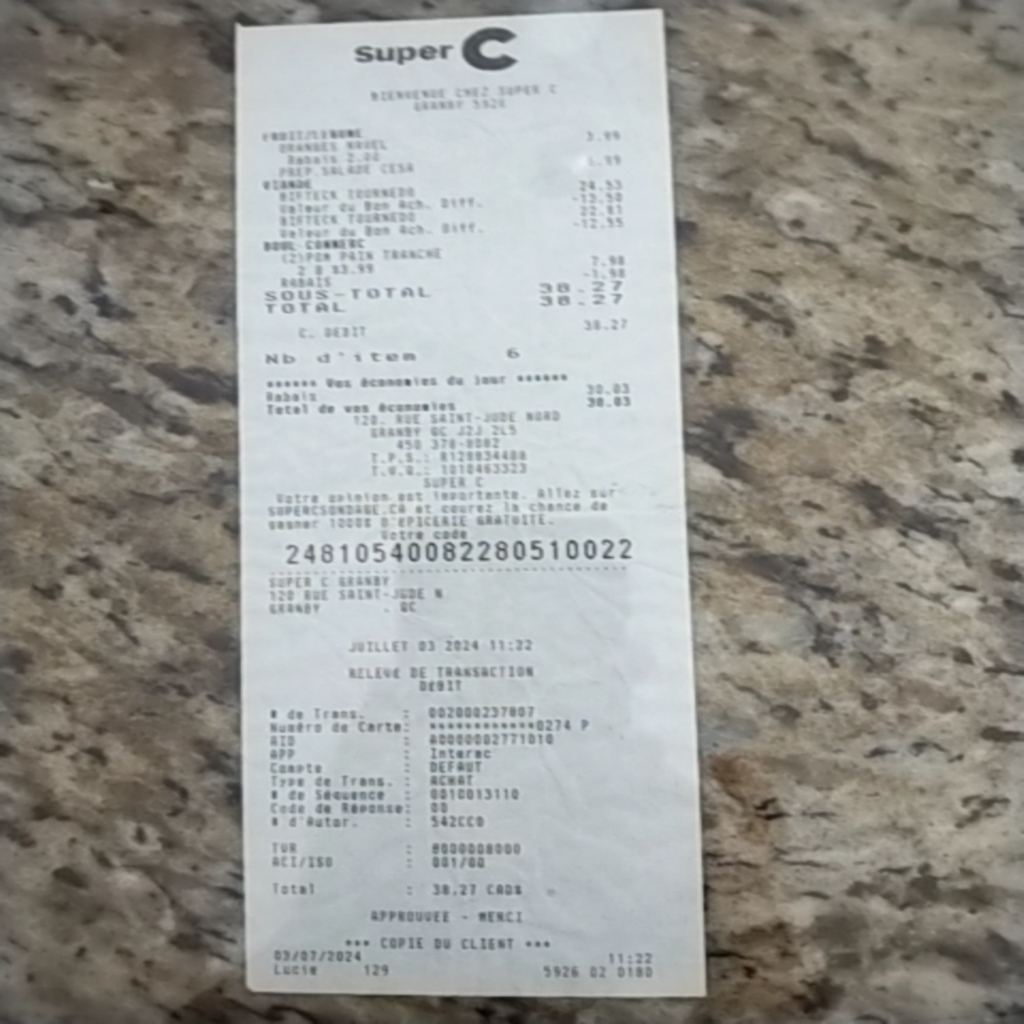recipt: (235, 10, 709, 999)
